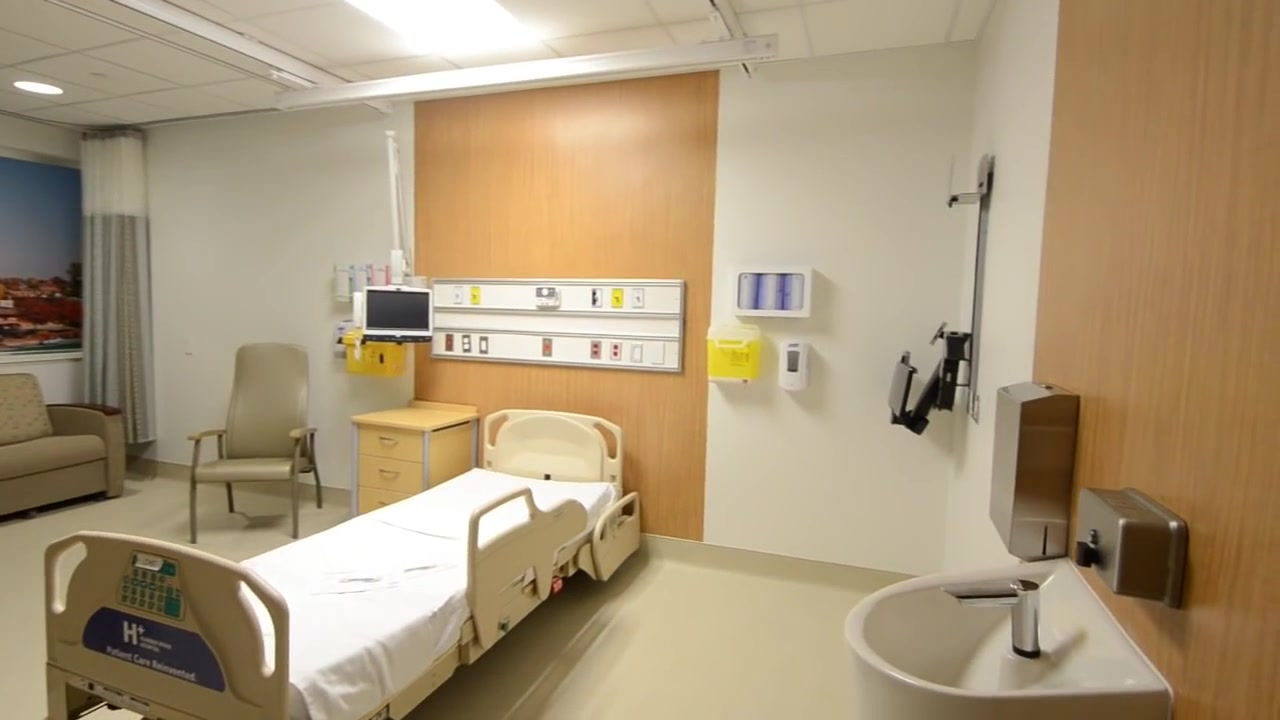bedrail: (467, 488, 588, 651), (591, 491, 640, 582)
bedside_monitor: (362, 285, 433, 337)
bedside_table: (350, 400, 481, 517)
chair: (187, 343, 322, 544)
curtain: (78, 130, 156, 444)
dispenser: (986, 379, 1080, 562), (733, 265, 809, 316), (777, 339, 811, 393)
faucet: (940, 579, 1041, 659)
foot_board: (44, 530, 290, 720)
handle: (378, 466, 400, 476), (377, 435, 398, 444)
hospital_bed: (44, 409, 642, 720)
medical_waste_container: (706, 324, 758, 386), (344, 335, 405, 374)
sink: (843, 556, 1173, 720)
sofa: (1, 373, 126, 516)
